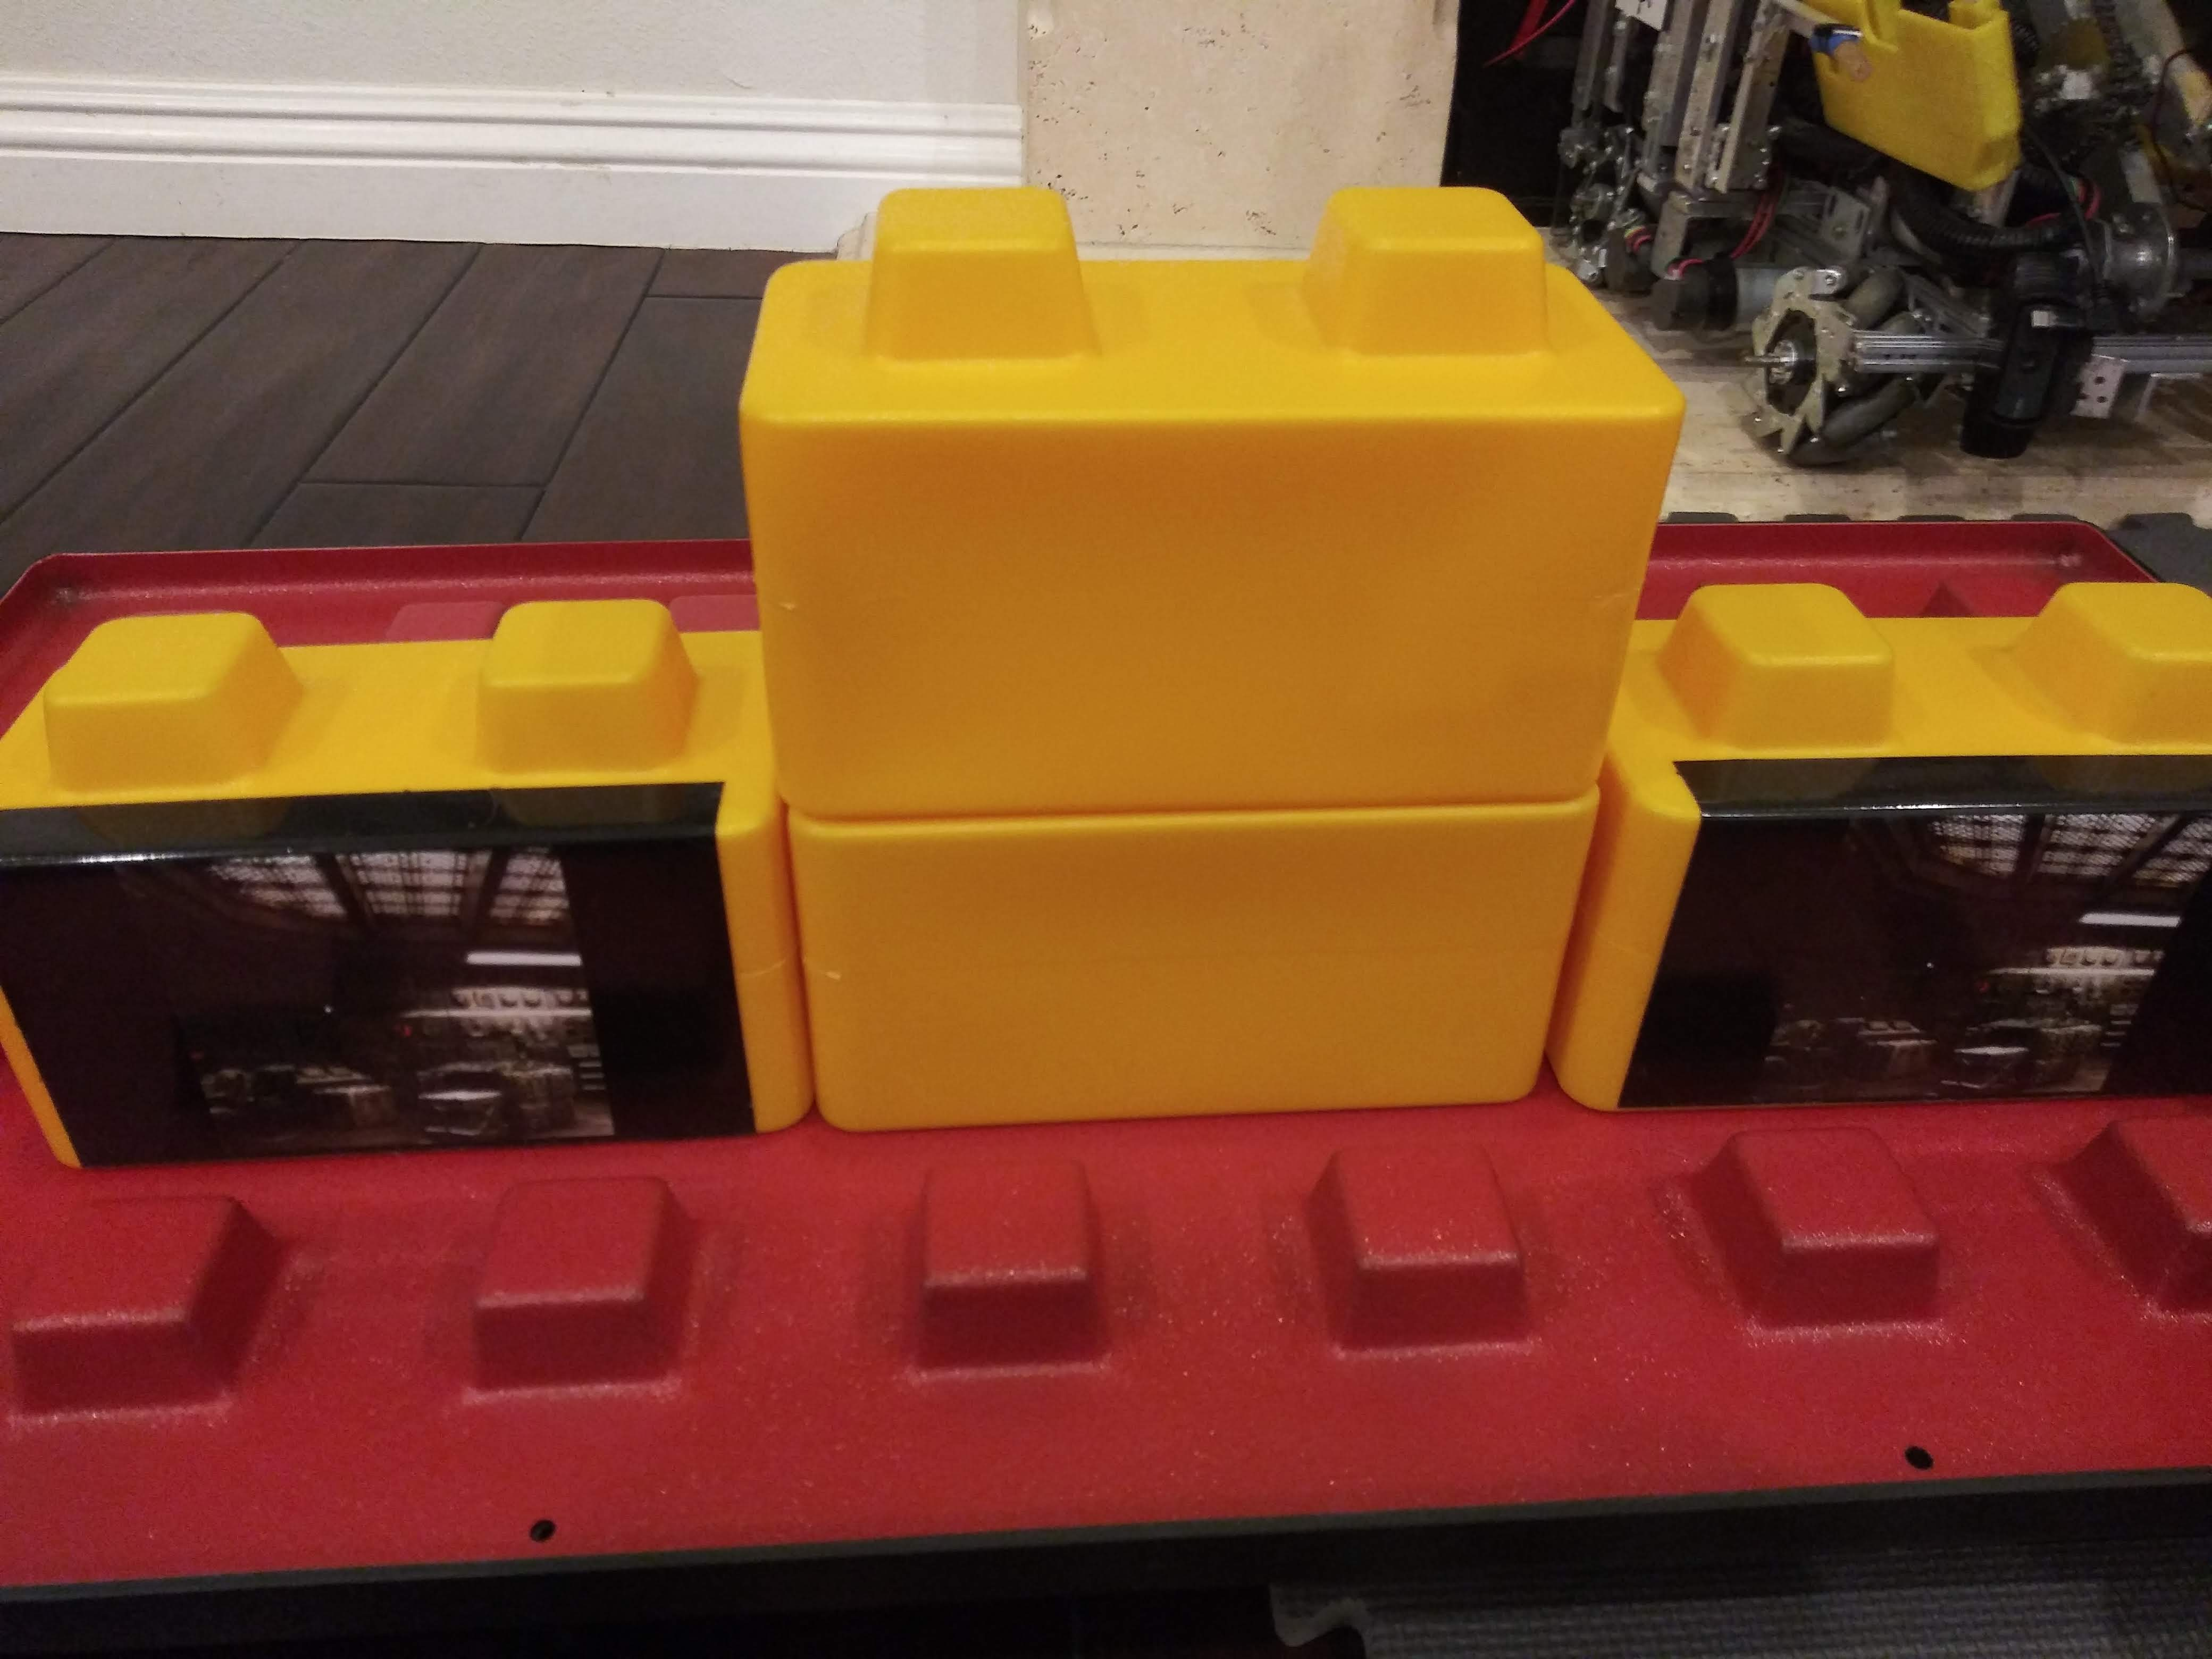skystone: (9, 704, 747, 1185), (1649, 662, 2177, 1107)
stone: (768, 281, 1604, 796), (794, 831, 1545, 1122)
